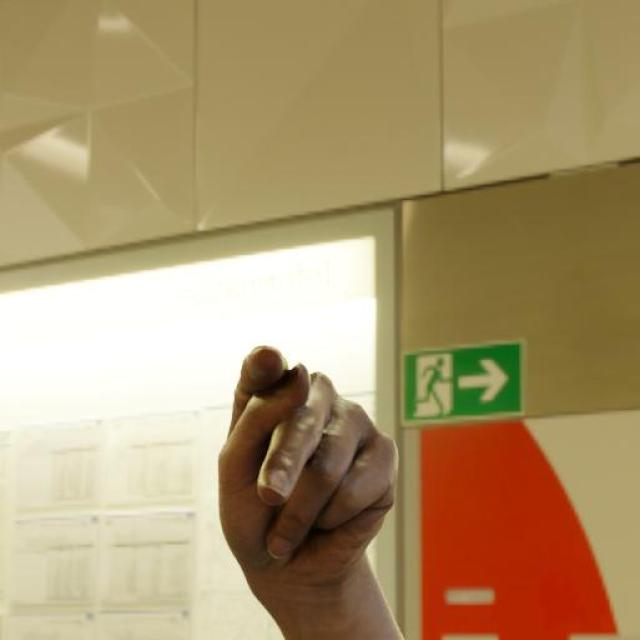P: (175, 300, 443, 640)
